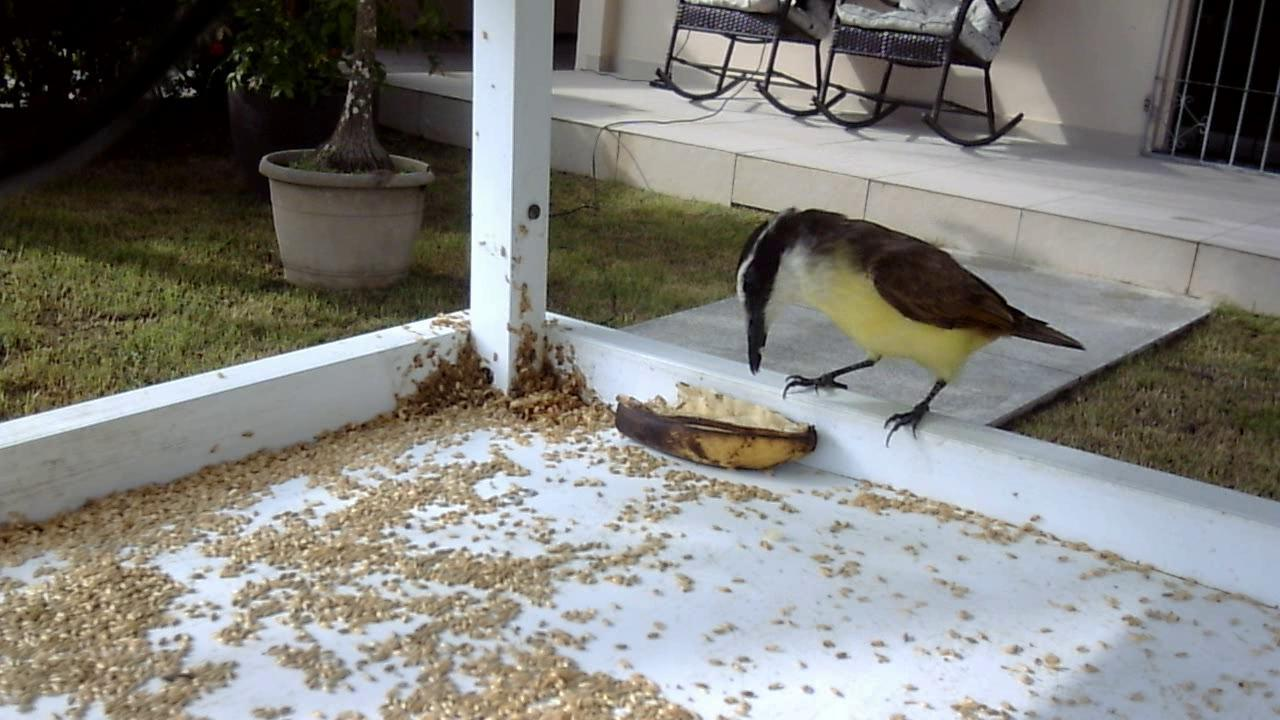bem_te_vi: (721, 192, 1095, 461)
